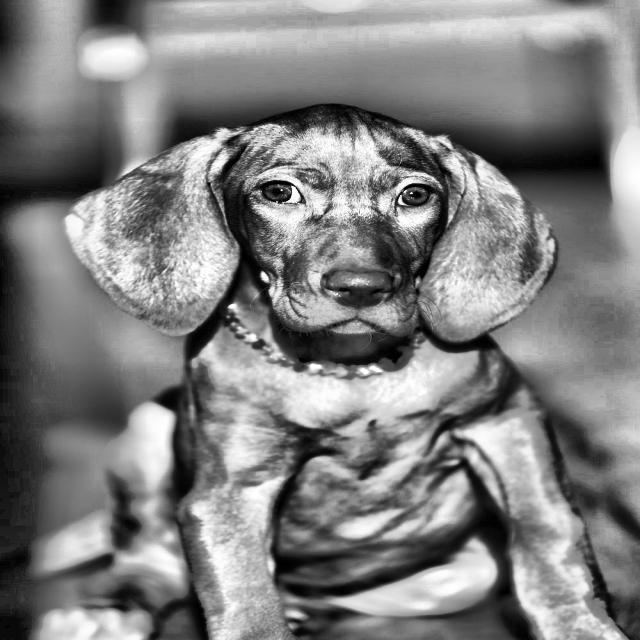beagle: (49, 80, 586, 407)
